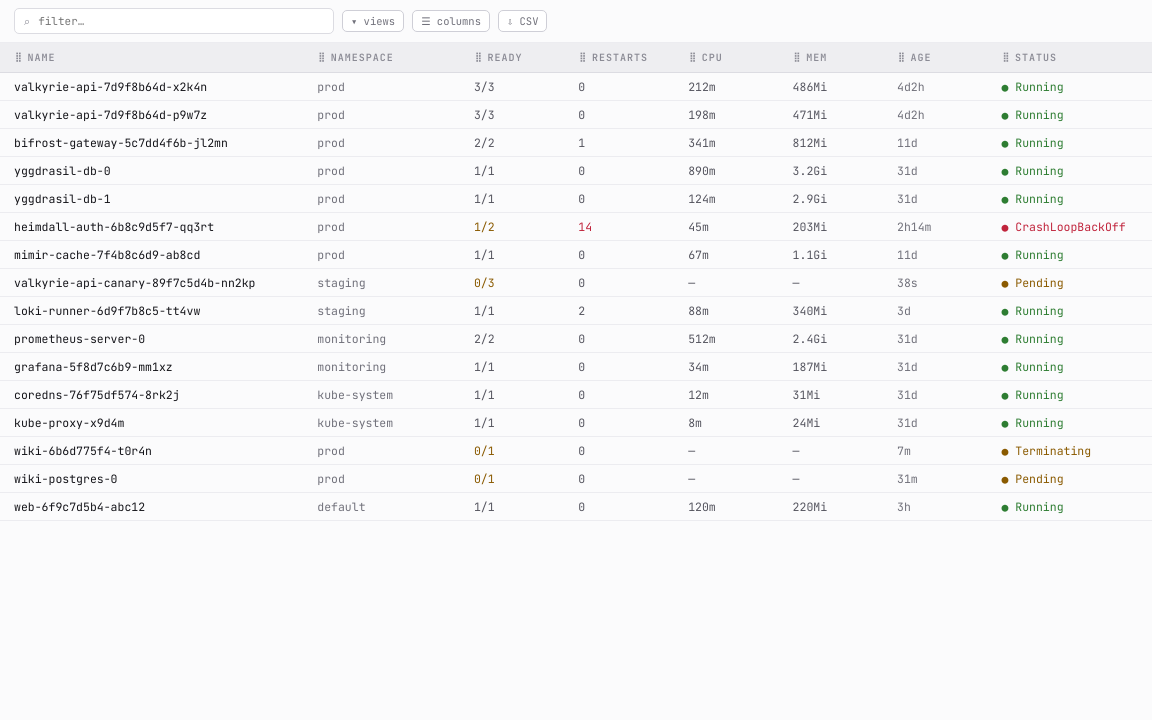
Test case: ResourceTable filter/sort (B83) › typing in the filter narrows the rows to matches
This screenshot has width=1152, height=720.
expect the text "heimdall-auth-6b8c9d5f7-qq3rt" is shown: met, box [0,212,303,240]
expect the text "valkyrie-api-7d9f8b64d-x2k4n" is shown: met, box [0,73,303,100]
Type "heimdall" into the field with placeholder "filter…" at (180, 21), box [36,13,324,29]
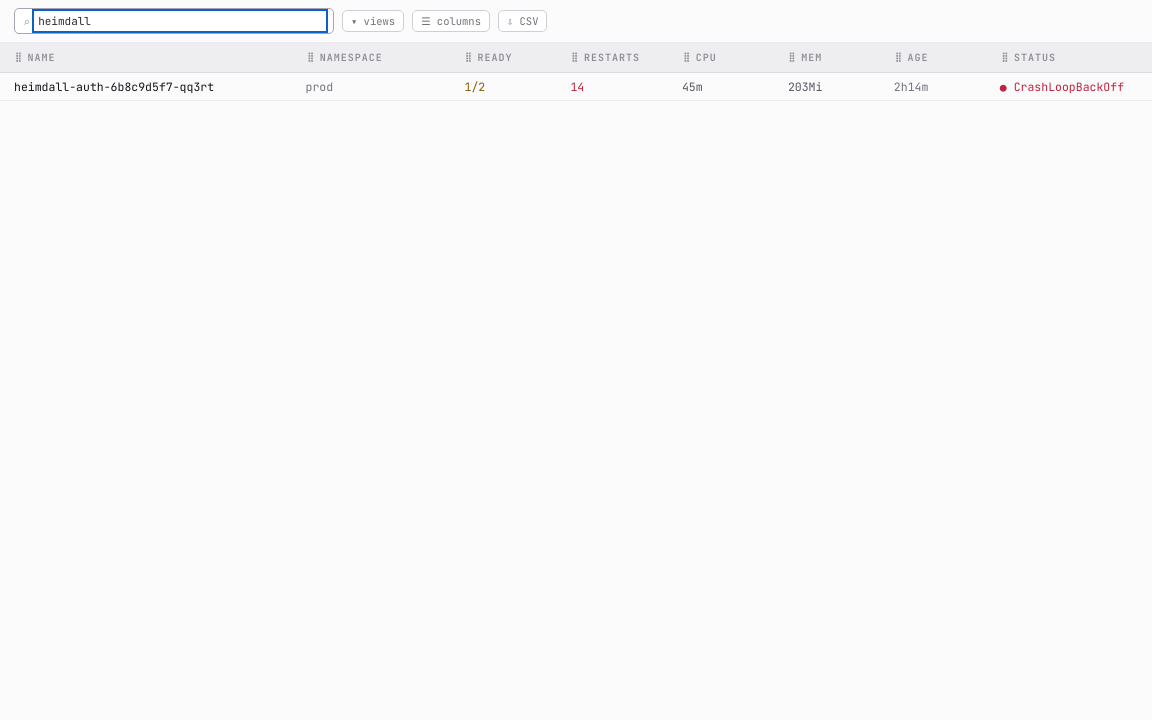
expect the text "heimdall-auth-6b8c9d5f7-qq3rt" is shown: met, box [0,73,292,100]
expect the text "valkyrie-api-7d9f8b64d-x2k4n" is gone: met
